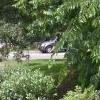Tree: (61, 8, 100, 83)
